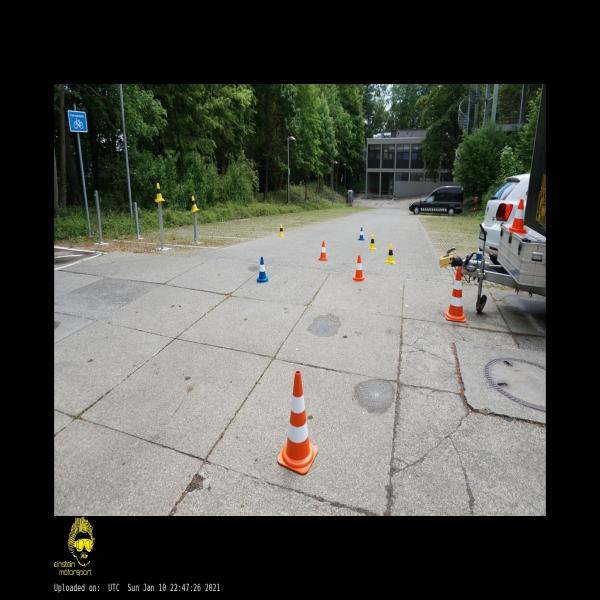blue_cone: (256, 258, 268, 282), (359, 228, 364, 240)
large_orange_cone: (278, 371, 318, 475), (445, 267, 466, 322)
orange_cone: (509, 200, 526, 233), (353, 256, 365, 280), (318, 242, 327, 260)
yellow_cone: (386, 244, 395, 264), (155, 184, 164, 201), (191, 196, 199, 212), (370, 234, 376, 250), (279, 224, 283, 236)
